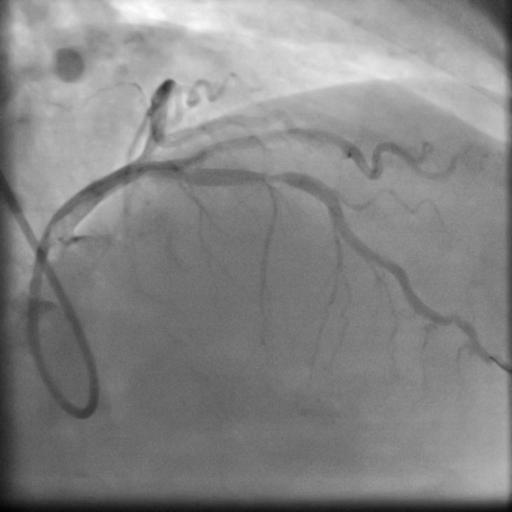Stenosis: (257, 164, 285, 190)
